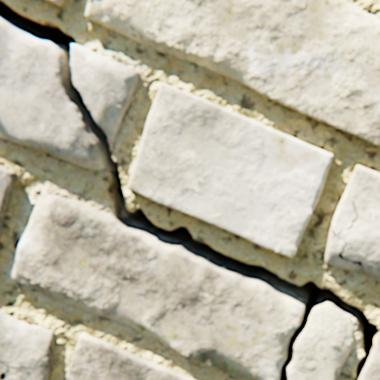brick: (87, 0, 379, 147), (128, 84, 333, 258), (325, 166, 379, 282), (68, 333, 195, 379), (0, 309, 56, 379), (0, 166, 17, 240), (358, 333, 379, 379), (44, 0, 63, 6)
broken_brick: (13, 195, 303, 379), (0, 19, 104, 170), (72, 46, 139, 150), (288, 304, 353, 379)
crack: (0, 0, 378, 379), (331, 200, 362, 268), (0, 364, 29, 379), (90, 0, 105, 3)
